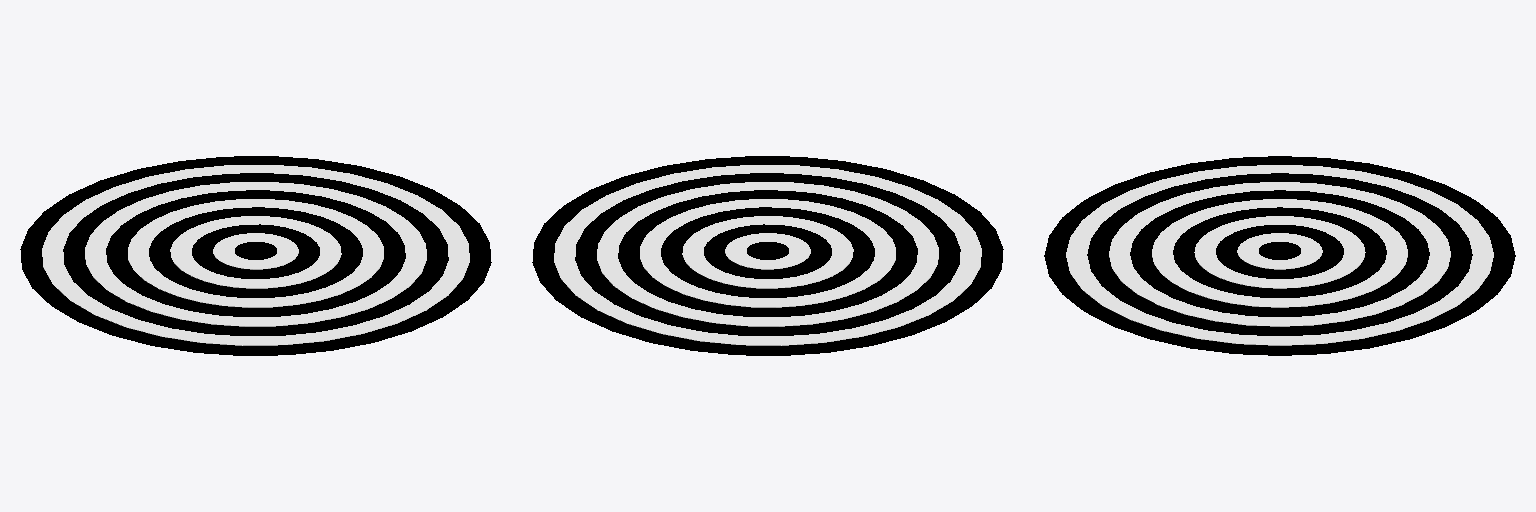
The robot description file, URDF, robot "table.urdf":
<?xml version="0.0" ?>
<robot name="table.urdf">
  <link name="base_link">
    <contact>
      <lateral_friction value="1.0"/>
    </contact>
    <inertial>
      <origin rpy="0 0 0" xyz="0 0 0"/>
       <mass value=".0"/>
       <inertia ixx="1" ixy="0" ixz="0" iyy="1" iyz="0" izz="1"/>
    </inertial>
    <visual>
      <origin rpy="0 0 1.570796327" xyz="0.0 0.0 0.0"/>
      <geometry>
				<cylinder length="0.001" radius="0.22"/>
      </geometry>
       <material name="black">
        <color rgba="0 0 0 1"/>
      </material>
    </visual>
    <collision>
      <origin rpy="0 0 1.570796327" xyz="0.0 0.0 0.0"/>
      <geometry>
      <cylinder length="0.01" radius="0.22"/>
      </geometry>
    </collision>
  </link>

  <joint name="joint1" type="fixed">
    <parent link="base_link"/>
    <child link="link1"/>
    <origin rpy="0.0 0.0 0.0" xyz="0.0 0.0 0.0"/>
    <axis xyz="0 0 0"/>
  </joint>

  <link name="link1">
    <inertial>
      <origin rpy="0 0 0" xyz="0 0 0"/>
       <mass value=".0"/>
       <inertia ixx="1" ixy="0" ixz="0" iyy="1" iyz="0" izz="1"/>
    </inertial>
    <visual>
      <origin rpy="0 0 1.570796327" xyz="0.0 0.0 0.0"/>
      <geometry>
        <cylinder length="0.002" radius="0.20"/>
      </geometry>
       <material name="white">
        <color rgba="1 1 1 1"/>
      </material>
    </visual>
  </link>

  <joint name="joint2" type="fixed">
    <parent link="link1"/>
    <child link="link2"/>
    <origin rpy="0.0 0.0 0.0" xyz="0.0 0.0 0.0"/>
    <axis xyz="0 0 0"/>
  </joint>

  <link name="link2">
    <inertial>
      <origin rpy="0 0 0" xyz="0 0 0"/>
       <mass value=".0"/>
       <inertia ixx="1" ixy="0" ixz="0" iyy="1" iyz="0" izz="1"/>
    </inertial>
    <visual>
      <origin rpy="0 0 1.570796327" xyz="0.0 0.0 0.0"/>
      <geometry>
        <cylinder length="0.003" radius="0.18"/>
      </geometry>
       <material name="black">
        <color rgba="0 0 0 1"/>
      </material>
    </visual>
    </link>

  <joint name="joint3" type="fixed">
    <parent link="link2"/>
    <child link="link3"/>
    <origin rpy="0.0 0.0 0.0" xyz="0.0 0.0 0.0"/>
    <axis xyz="0 0 0"/>
  </joint>

  <link name="link3">
    <inertial>
      <origin rpy="0 0 0" xyz="0 0 0"/>
       <mass value=".0"/>
       <inertia ixx="1" ixy="0" ixz="0" iyy="1" iyz="0" izz="1"/>
    </inertial>
    <visual>
      <origin rpy="0 0 1.570796327" xyz="0.0 0.0 0.0"/>
      <geometry>
        <cylinder length="0.004" radius="0.16"/>
      </geometry>
       <material name="white">
        <color rgba="1 1 1 1"/>
      </material>
    </visual>
    </link>

  <joint name="joint4" type="fixed">
    <parent link="link3"/>
    <child link="link4"/>
    <origin rpy="0.0 0.0 0.0" xyz="0.0 0.0 0.0"/>
    <axis xyz="0 0 0"/>
  </joint>

  <link name="link4">
    <inertial>
      <origin rpy="0 0 0" xyz="0 0 0"/>
       <mass value=".0"/>
       <inertia ixx="1" ixy="0" ixz="0" iyy="1" iyz="0" izz="1"/>
    </inertial>
    <visual>
      <origin rpy="0 0 1.570796327" xyz="0.0 0.0 0.0"/>
      <geometry>
        <cylinder length="0.005" radius="0.14"/>
      </geometry>
       <material name="black">
        <color rgba="0 0 0 1"/>
      </material>
    </visual>
    </link>

  <joint name="joint5" type="fixed">
    <parent link="link4"/>
    <child link="link5"/>
    <origin rpy="0.0 0.0 0.0" xyz="0.0 0.0 0.0"/>
    <axis xyz="0 0 0"/>
  </joint>

  <link name="link5">
    <inertial>
      <origin rpy="0 0 0" xyz="0 0 0"/>
       <mass value=".0"/>
       <inertia ixx="1" ixy="0" ixz="0" iyy="1" iyz="0" izz="1"/>
    </inertial>
    <visual>
      <origin rpy="0 0 1.570796327" xyz="0.0 0.0 0.0"/>
      <geometry>
        <cylinder length="0.006" radius="0.12"/>
      </geometry>
       <material name="white">
        <color rgba="1 1 1 1"/>
      </material>
    </visual>
    </link>

  <joint name="joint6" type="fixed">
    <parent link="link5"/>
    <child link="link6"/>
    <origin rpy="0.0 0.0 0.0" xyz="0.0 0.0 0.0"/>
    <axis xyz="0 0 0"/>
  </joint>

  <link name="link6">
    <inertial>
      <origin rpy="0 0 0" xyz="0 0 0"/>
       <mass value=".0"/>
       <inertia ixx="1" ixy="0" ixz="0" iyy="1" iyz="0" izz="1"/>
    </inertial>
    <visual>
      <origin rpy="0 0 1.570796327" xyz="0.0 0.0 0.0"/>
      <geometry>
        <cylinder length="0.007" radius="0.10"/>
      </geometry>
       <material name="black">
        <color rgba="0 0 0 1"/>
      </material>
    </visual>
    </link>

  <joint name="joint7" type="fixed">
    <parent link="link6"/>
    <child link="link7"/>
    <origin rpy="0.0 0.0 0.0" xyz="0.0 0.0 0.0"/>
    <axis xyz="0 0 0"/>
  </joint>

  <link name="link7">
    <inertial>
      <origin rpy="0 0 0" xyz="0 0 0"/>
       <mass value=".0"/>
       <inertia ixx="1" ixy="0" ixz="0" iyy="1" iyz="0" izz="1"/>
    </inertial>
    <visual>
      <origin rpy="0 0 1.570796327" xyz="0.0 0.0 0.0"/>
      <geometry>
        <cylinder length="0.008" radius="0.08"/>
      </geometry>
       <material name="white">
        <color rgba="1 1 1 1"/>
      </material>
    </visual>
    </link>

    <joint name="joint8" type="fixed">
    <parent link="link7"/>
    <child link="link8"/>
    <origin rpy="0.0 0.0 0.0" xyz="0.0 0.0 0.0"/>
    <axis xyz="0 0 0"/>
  </joint>

  <link name="link8">
    <inertial>
      <origin rpy="0 0 0" xyz="0 0 0"/>
       <mass value=".0"/>
       <inertia ixx="1" ixy="0" ixz="0" iyy="1" iyz="0" izz="1"/>
    </inertial>
    <visual>
      <origin rpy="0 0 1.570796327" xyz="0.0 0.0 0.0"/>
      <geometry>
        <cylinder length="0.009" radius="0.06"/>
      </geometry>
       <material name="black">
        <color rgba="0 0 0 1"/>
      </material>
    </visual>
    </link>

  <joint name="joint9" type="fixed">
    <parent link="link8"/>
    <child link="link9"/>
    <origin rpy="0.0 0.0 0.0" xyz="0.0 0.0 0.0"/>
    <axis xyz="0 0 0"/>
  </joint>

  <link name="link9">
    <inertial>
      <origin rpy="0 0 0" xyz="0 0 0"/>
       <mass value=".0"/>
       <inertia ixx="1" ixy="0" ixz="0" iyy="1" iyz="0" izz="1"/>
    </inertial>
    <visual>
      <origin rpy="0 0 1.570796327" xyz="0.0 0.0 0.0"/>
      <geometry>
        <cylinder length="0.010" radius="0.04"/>
      </geometry>
       <material name="white">
        <color rgba="1 1 1 1"/>
      </material>
    </visual>
    </link>

  <joint name="joint10" type="fixed">
    <parent link="link9"/>
    <child link="link10"/>
    <origin rpy="0.0 0.0 0.0" xyz="0.0 0.0 0.0"/>
    <axis xyz="0 0 0"/>
  </joint>

  <link name="link10">
    <inertial>
      <origin rpy="0 0 0" xyz="0 0 0"/>
       <mass value=".0"/>
       <inertia ixx="1" ixy="0" ixz="0" iyy="1" iyz="0" izz="1"/>
    </inertial>
    <visual>
      <origin rpy="0 0 1.570796327" xyz="0.0 0.0 0.0"/>
      <geometry>
        <cylinder length="0.011" radius="0.02"/>
      </geometry>
       <material name="black">
        <color rgba="0 0 0 1"/>
      </material>
    </visual>
  </link>

</robot>

--- What the picture shows (computed from the rendered views, not written in the file) ---
The picture shows the robot from 3 angles, left to right: view 1: azimuth 30°, elevation 25°; view 2: azimuth 150°, elevation 25°; view 3: azimuth 270°, elevation 25°; orthographic projection.
Model table.urdf with 11 links and 10 joints (10 fixed), rooted at base_link, posed all joints at 0.
Visible links, largest first — view 1: base_link, link1, link2, link3, link4, link5, link6, link7, link8, link9, link10; view 2: base_link, link1, link2, link3, link4, link5, link6, link7, link8, link9, link10; view 3: base_link, link1, link2, link3, link4, link5, link6, link7, link8, link9, link10.
Link boxes in pixels (x1,y1,x2,y2): base_link: (20, 156, 491, 355); link1: (42, 165, 469, 345); link2: (63, 173, 448, 335); link3: (85, 182, 426, 326); link4: (106, 190, 405, 316); link5: (128, 199, 383, 307); link6: (149, 207, 362, 297); link7: (170, 216, 341, 288); link8: (192, 224, 319, 278); link9: (213, 233, 298, 269); link10: (235, 242, 276, 259); base_link: (532, 156, 1003, 355); link1: (554, 165, 981, 345); link2: (575, 173, 960, 335); link3: (597, 182, 938, 326); link4: (618, 190, 917, 316); link5: (640, 199, 895, 307); link6: (661, 207, 874, 297); link7: (682, 216, 853, 288); link8: (704, 224, 831, 278); link9: (725, 233, 810, 269); link10: (747, 242, 788, 259); base_link: (1044, 156, 1515, 355); link1: (1066, 165, 1493, 345); link2: (1087, 173, 1472, 335); link3: (1109, 182, 1450, 326); link4: (1130, 190, 1429, 316); link5: (1152, 199, 1407, 307); link6: (1173, 207, 1386, 297); link7: (1194, 216, 1365, 288); link8: (1216, 225, 1343, 278); link9: (1237, 233, 1322, 269); link10: (1259, 242, 1300, 259).
Size in the robot's own frame: 0.44 by 0.44 by 0.011 metres.
Geometry: primitives only (box / cylinder / sphere), no mesh files.